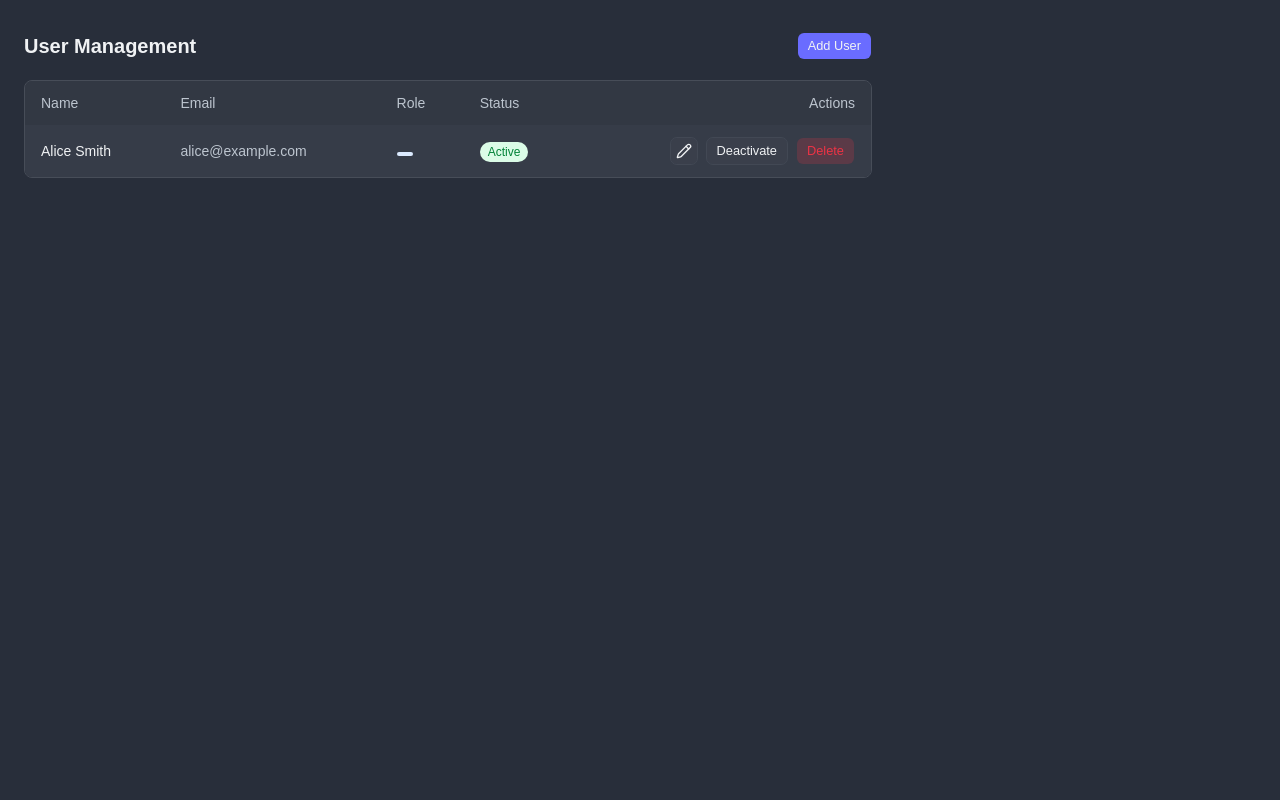
Test: delete user › opens a confirmation dialog when Delete is clicked
Expected: the text "Alice Smith" is shown, [25, 125, 164, 177]
Step 1. Click the button "Delete" → [826, 151], box [796, 137, 855, 165]
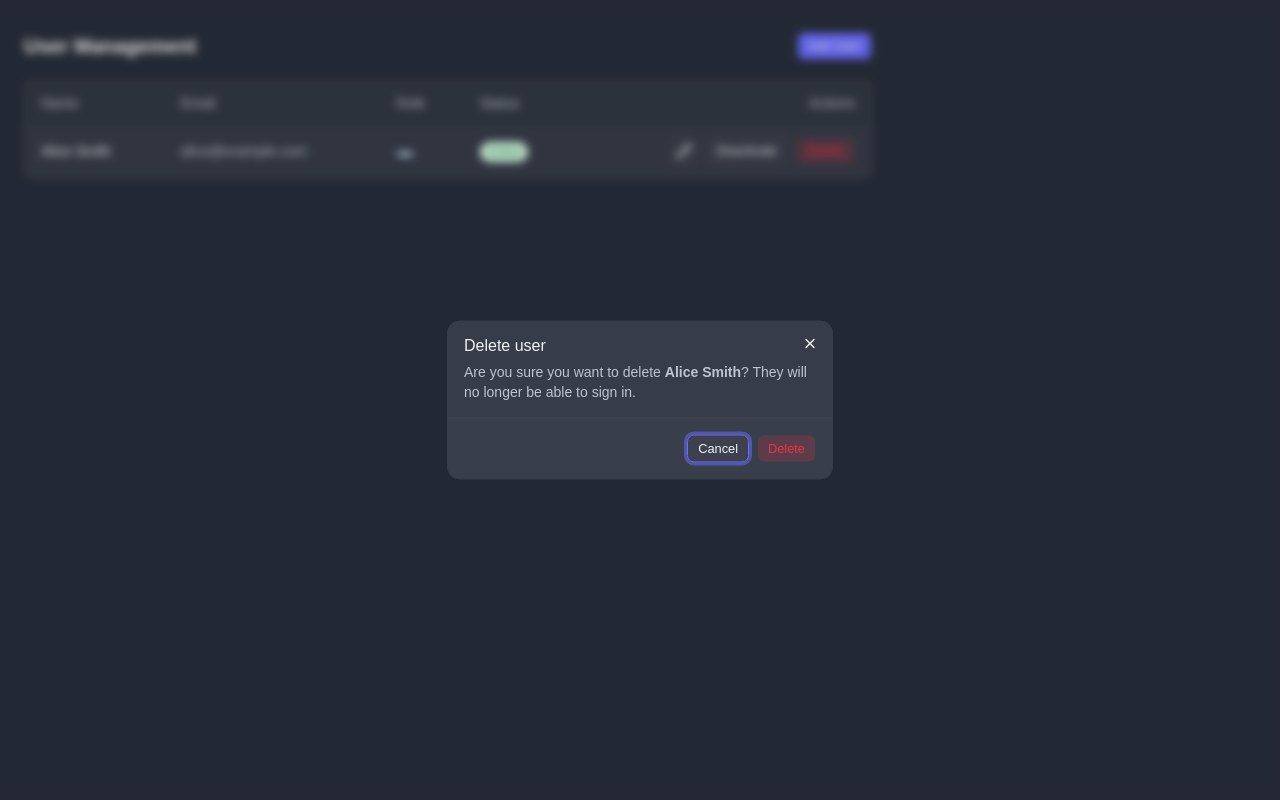
Now the heading "Delete user" is shown, box [464, 336, 546, 354]
Now the text "Are you sure you want to delete" is shown, box [464, 364, 665, 380]
